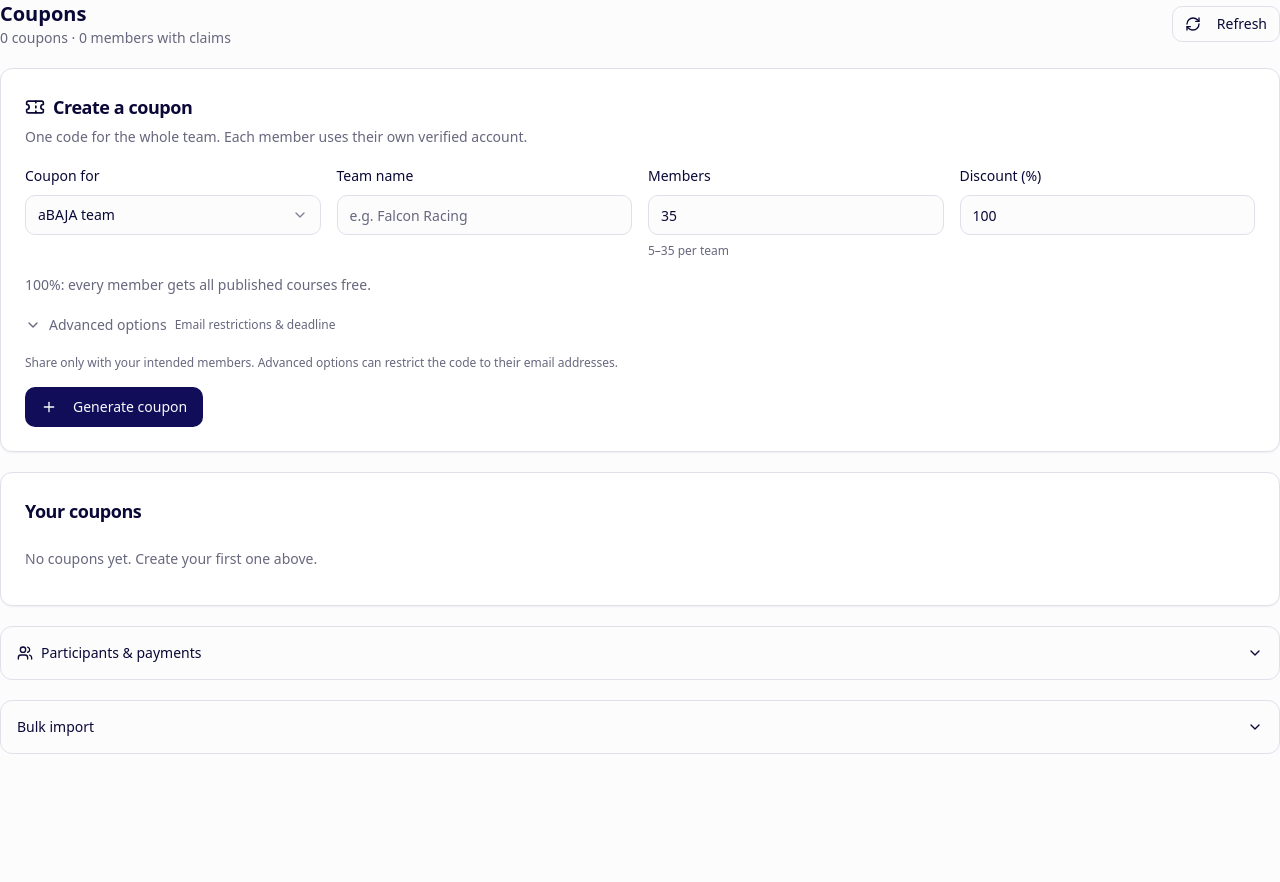
it: admin percentage coupon creation › keeps email restrictions, deadline and optional naming together under Advanced options
Check: the button "Generate coupon" is enabled, box [25,387,203,427]
Type "Falcon Racing" into the field labelled "Team name". click: (484, 215)
box: [336,195,632,235]
Click the button "Advanced options Email restrictions & deadline". click: (180, 325)
box: [25,311,336,339]
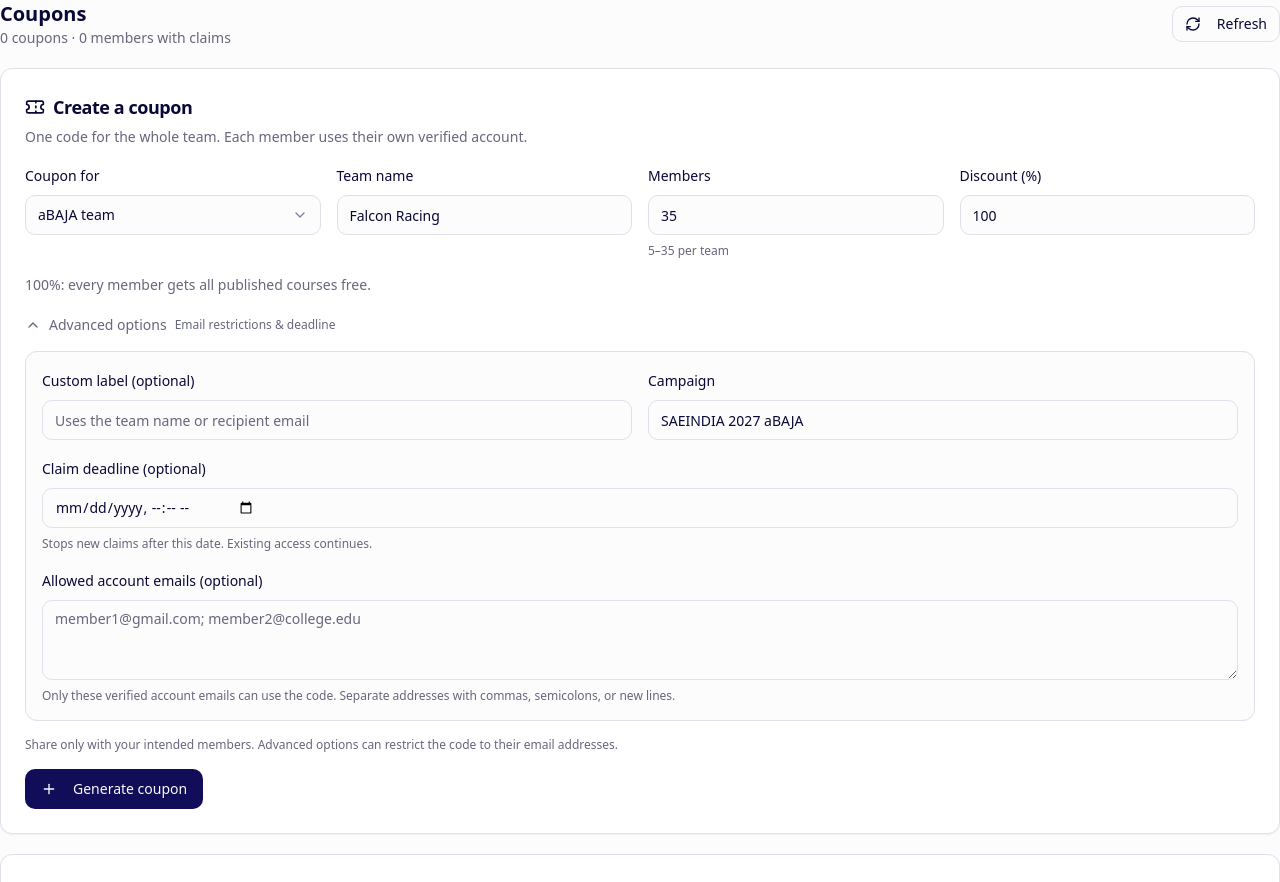
Type "Team 01" into the field labelled "Custom label (optional)". click: (337, 420)
box: [42,400,632,440]
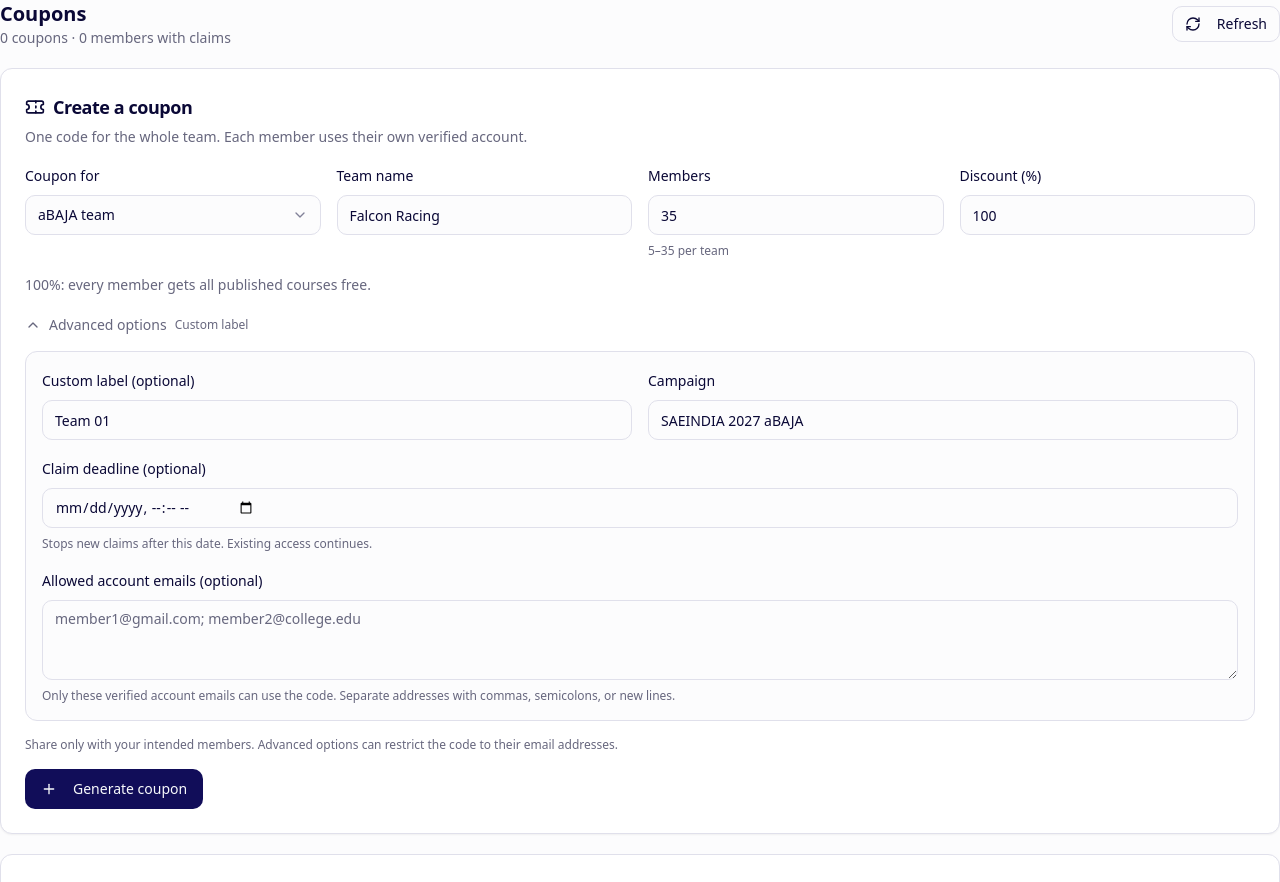
Type " MEMBER@College.edu " into the text box labelled "Allowed account emails (optional)". click: (640, 640)
box: [42,600,1238,680]
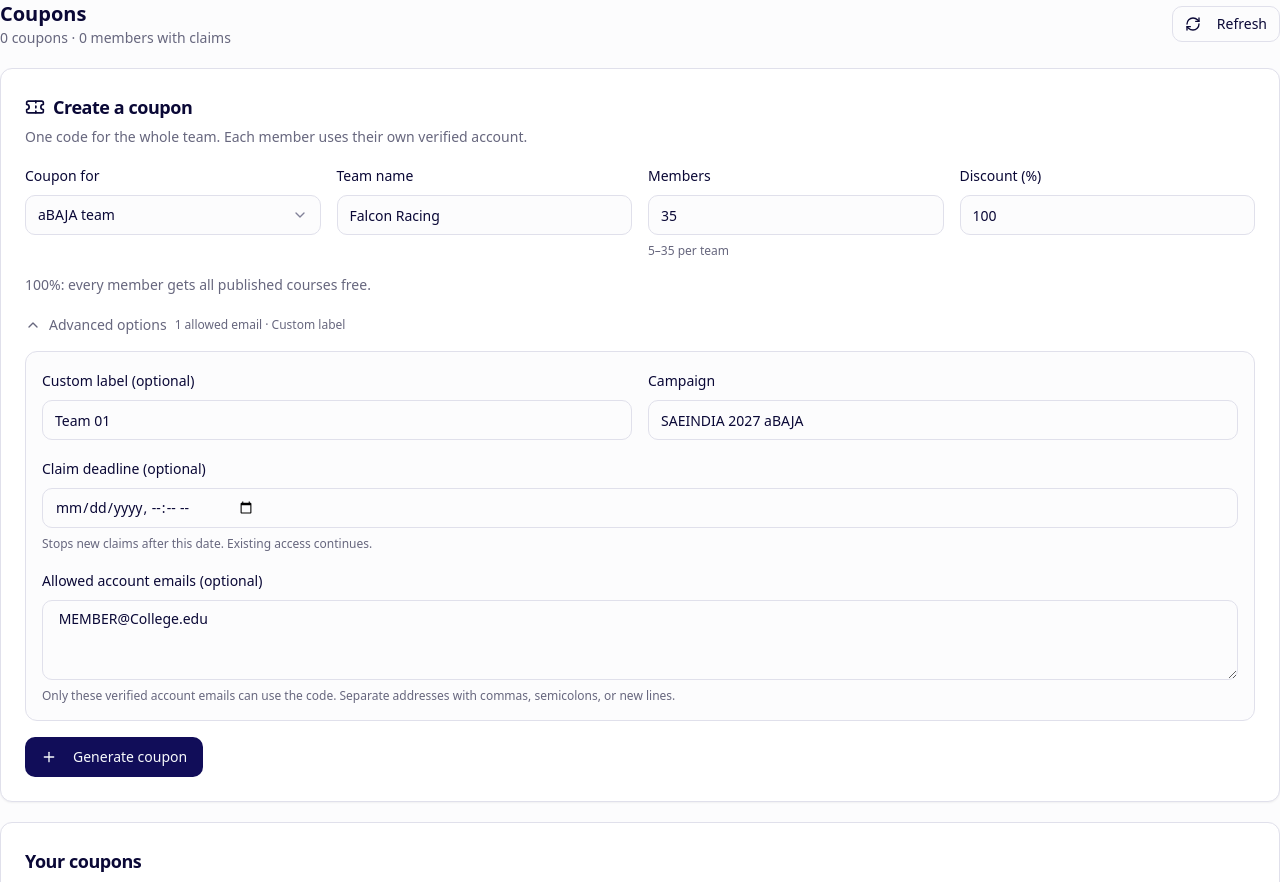
Type "2099-12-31T12:00" into the field labelled "Claim deadline (optional)". click: (640, 508)
box: [42,488,1238,528]
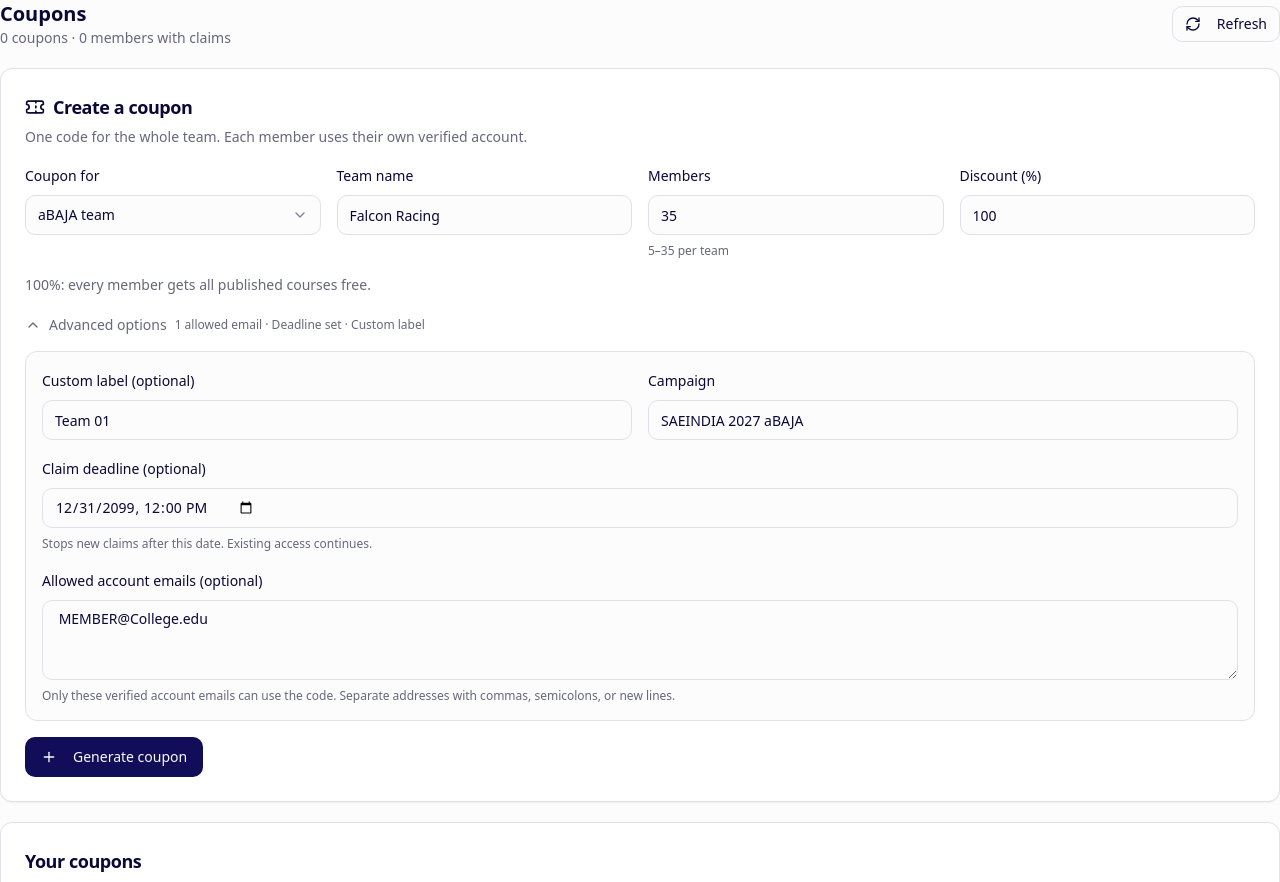
Click the button "Advanced options". click: (225, 325)
box: [25,311,425,339]
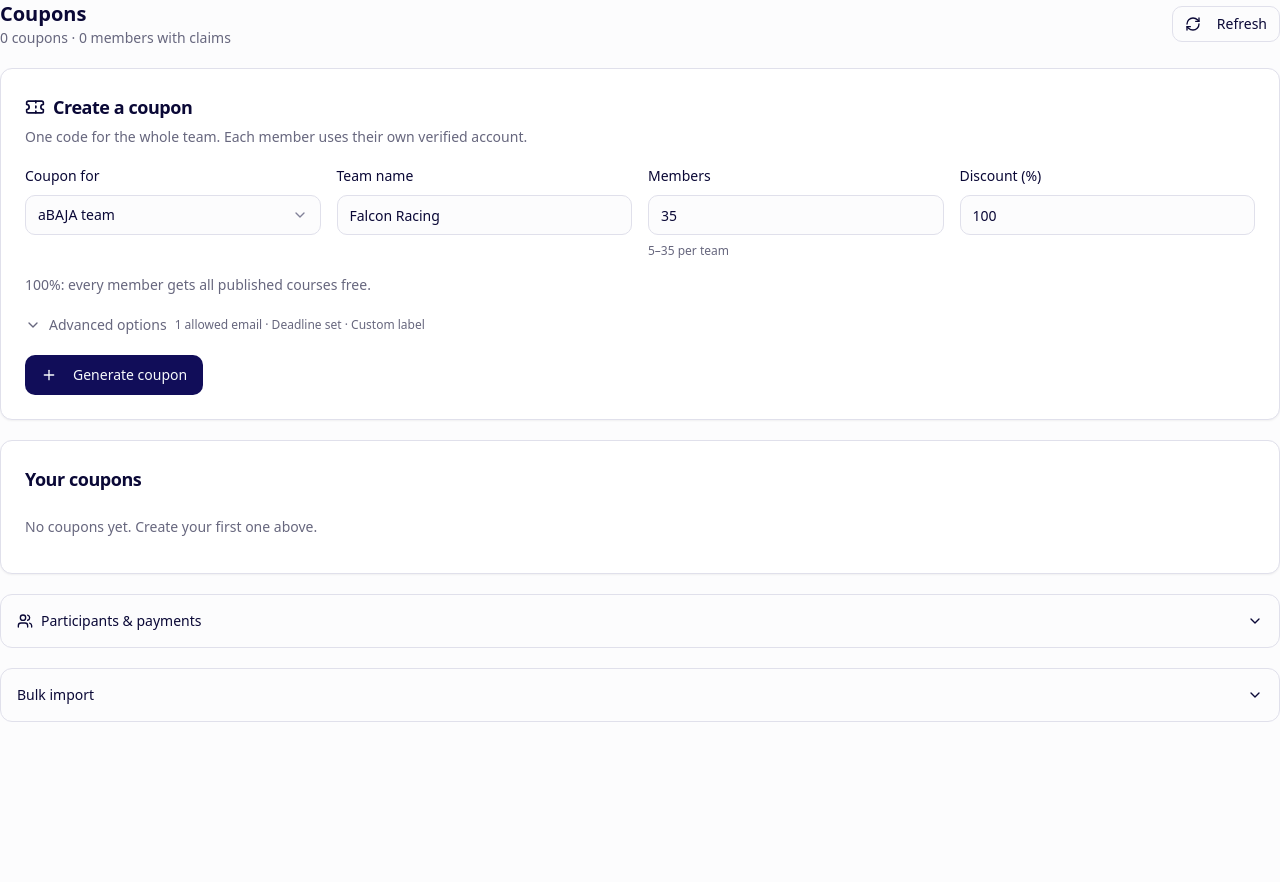
Check: the button that starts with "Advanced options" is shown, box [25,311,425,339]
Check: the label labelled "Campaign" is gone
Click the button "Generate coupon". click: (114, 375)
box: [25,355,203,395]
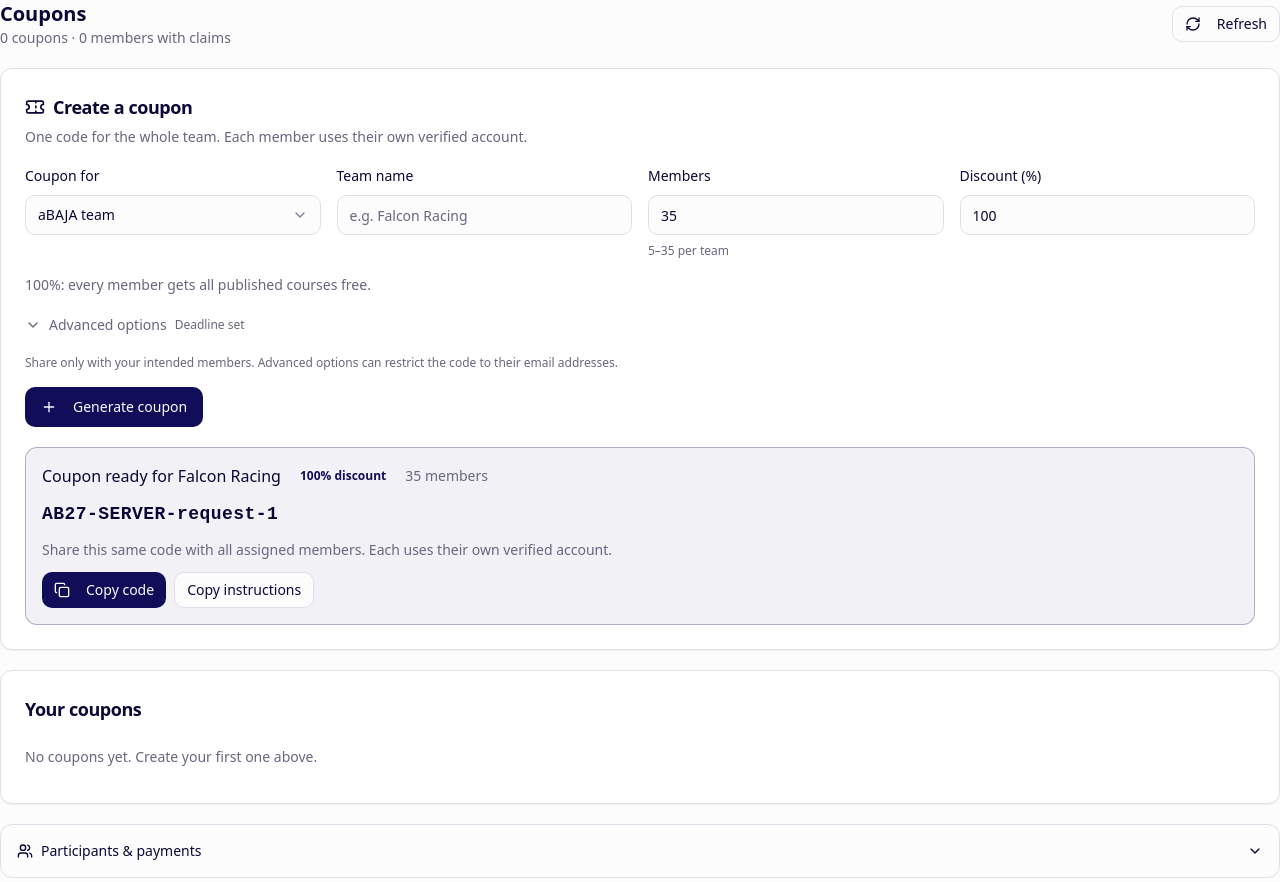
Check: the text "AB27-SERVER-request-1" is shown, box [42,504,278,524]
